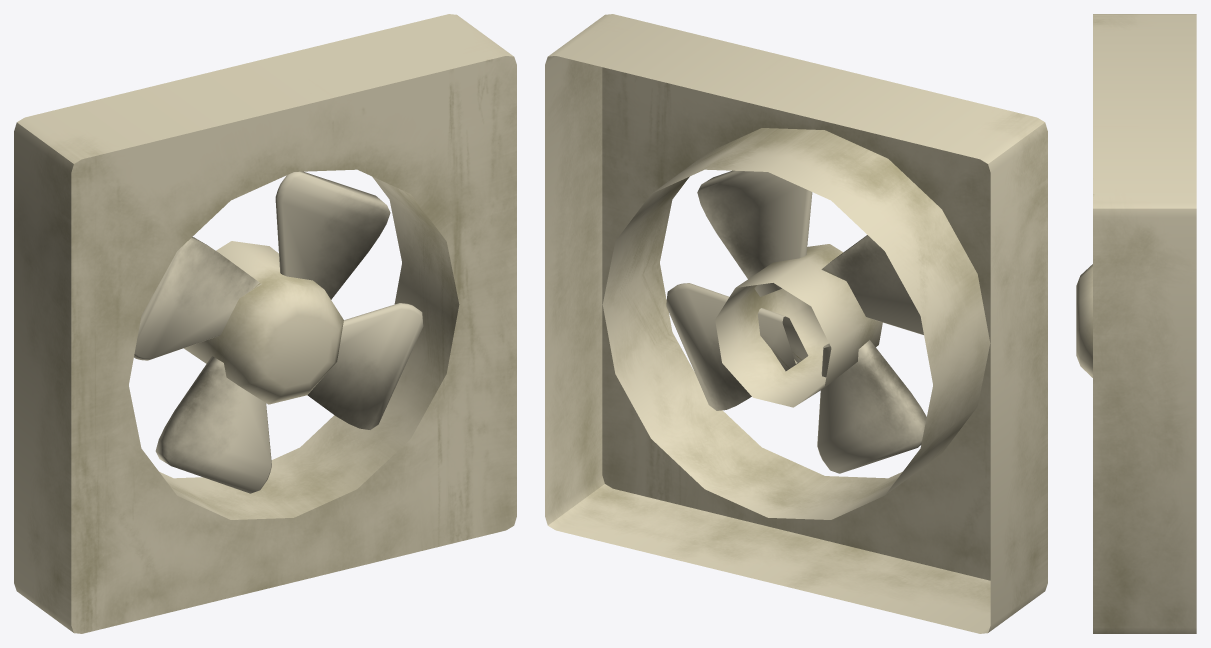
The model's file is kitchen_ventilation.FBX.
The picture shows the model from 3 angles, left to right: view 1: azimuth 30°, elevation 25°; view 2: azimuth 150°, elevation 25°; view 3: azimuth 270°, elevation 25°; orthographic projection. The views are drawn at different scales.
Parts seen in each view (by area): view 1: kitchen_ventilation; view 2: kitchen_ventilation; view 3: kitchen_ventilation.
Part boxes in pixels (box(x1,y1,x2,y2)): kitchen_ventilation: box(14, 14, 516, 633); kitchen_ventilation: box(545, 14, 1047, 633); kitchen_ventilation: box(1076, 14, 1196, 633).
Size of the model in its own units: 42.7 by 43.46 by 10.98.
1 material, 1 textured.
